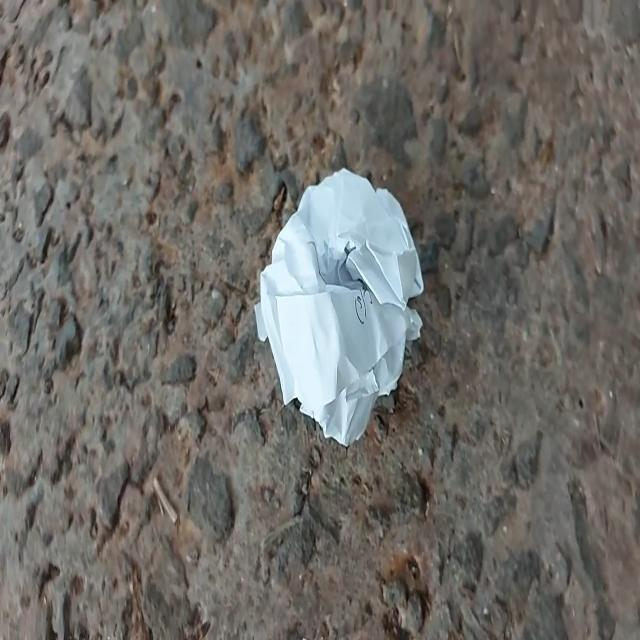Paper: (241, 132, 442, 462)
